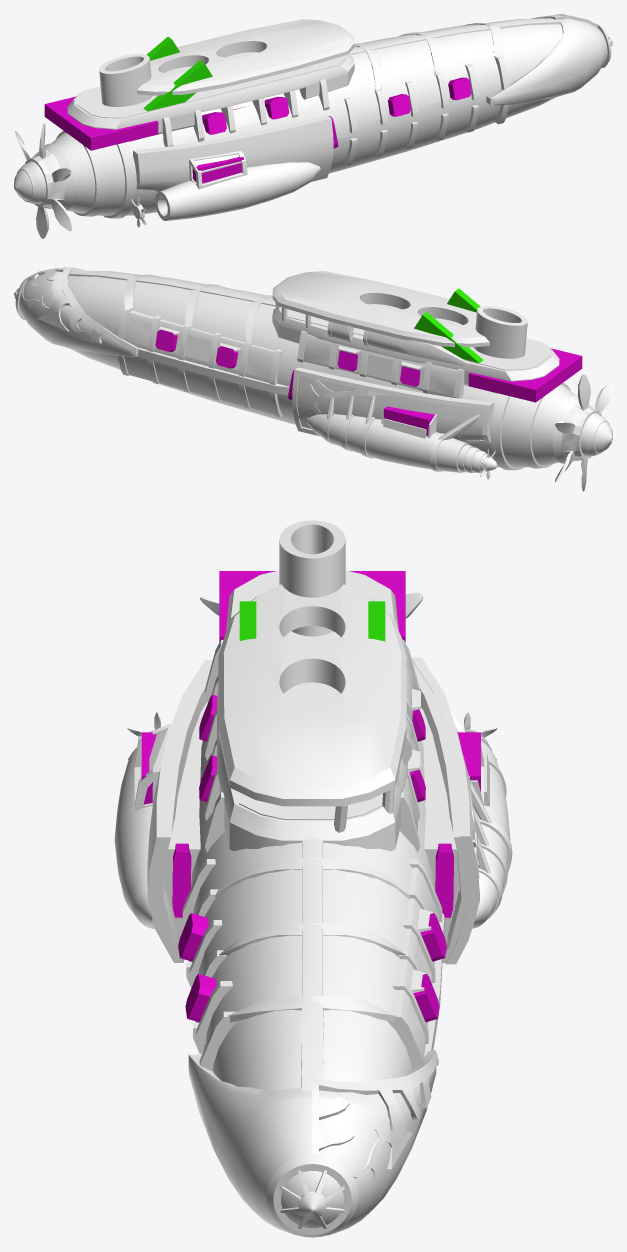
The model's file is Password.glb.
The picture shows the model from 3 angles, top to bottom: view 1: azimuth 30°, elevation 25°; view 2: azimuth 150°, elevation 25°; view 3: azimuth 270°, elevation 25°; orthographic projection. The views are drawn at different scales.
Visible parts, largest first — view 1: BlimpBase, BridgeRoof, SidePlates.001, SidePods, Ram, BridgeBase, Bool.001, WeaponWallStruts.002, BridgeFloor, BackRibbing, Chimney, LargeProp (+8 smaller); view 2: BlimpBase, BridgeRoof, CanonWall.002, SidePlates.001, SidePods, Ram, BridgeBase, SideDeco, Bool.001, CanonWall.001, WeaponWallStruts.002, BackRibbing (+20 smaller); view 3: BlimpBase, BridgeRoof, Ram, SidePlates.001, BoolFull, BridgeBase, SidePods, SideBox, WeaponWallStruts.002, TopFrontStruts, RamDeco, TopeStruts (+12 smaller).
Boxes of the visible parts, x1,y1,x2,y2 form: BlimpBase: (51, 19, 562, 215); BridgeRoof: (137, 19, 354, 95); SidePlates.001: (133, 115, 333, 191); SidePods: (155, 162, 320, 220); Ram: (486, 18, 607, 105); BridgeBase: (67, 54, 354, 141); Bool.001: (44, 96, 245, 183); WeaponWallStruts.002: (344, 25, 509, 165); BridgeFloor: (76, 52, 346, 118); BackRibbing: (45, 130, 135, 218); Chimney: (99, 54, 152, 106); LargeProp: (15, 123, 72, 238); BlimpBase: (68, 271, 575, 467); BridgeRoof: (272, 271, 489, 347); CanonWall.002: (123, 310, 274, 414); SidePlates.001: (297, 367, 493, 443); SidePods: (306, 414, 469, 472); Ram: (19, 267, 137, 356); BridgeBase: (272, 306, 559, 393); SideDeco: (292, 367, 491, 443); Bool.001: (383, 348, 582, 436); CanonWall.001: (303, 334, 457, 397); WeaponWallStruts.002: (117, 277, 282, 417); BackRibbing: (491, 382, 578, 470); BlimpBase: (191, 740, 434, 1091); BridgeRoof: (218, 584, 406, 806); Ram: (188, 1054, 436, 1237); SidePlates.001: (147, 660, 475, 962); BoolFull: (172, 694, 453, 1022); BridgeBase: (217, 570, 407, 851); SidePods: (114, 743, 510, 928); SideBox: (165, 702, 459, 944); WeaponWallStruts.002: (182, 859, 442, 1070); TopFrontStruts: (215, 857, 409, 1022); RamDeco: (312, 1050, 438, 1178); TopeStruts: (301, 838, 323, 1091).
Size of the model in its own units: 330 by 83.04 by 95.14.
